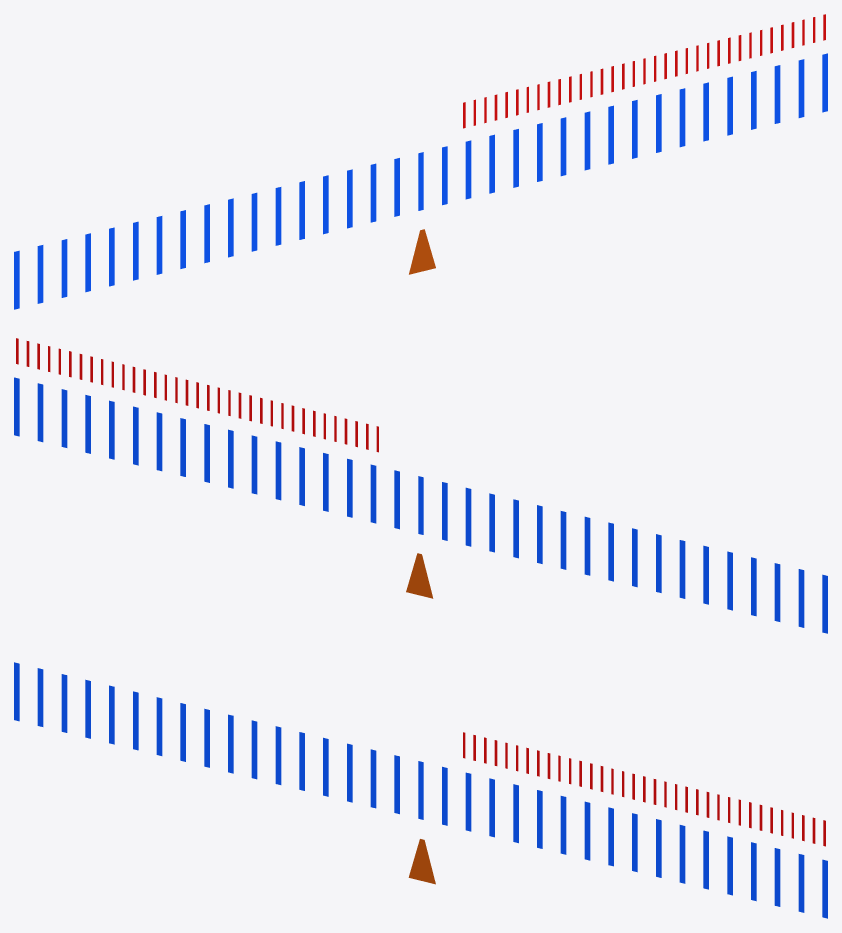
File: bottom_bar.glb
The picture shows the model from 3 angles, top to bottom: view 1: azimuth 30°, elevation 25°; view 2: azimuth 150°, elevation 25°; view 3: azimuth 330°, elevation 25°; orthographic projection.
Visible parts, largest first — view 1: Gauge_37, Arrowbaked_36; view 2: Gauge_37, Arrowbaked_36; view 3: Gauge_37, Arrowbaked_36.
Boxes of the visible parts, left/top/right/bottom form: Gauge_37: left=14, top=14, right=827, bottom=309; Arrowbaked_36: left=409, top=229, right=435, bottom=274; Gauge_37: left=14, top=338, right=827, bottom=633; Arrowbaked_36: left=406, top=553, right=433, bottom=598; Gauge_37: left=14, top=662, right=827, bottom=918; Arrowbaked_36: left=408, top=839, right=435, bottom=884.
Bounding box in the file's own units: 5.66 × 1.06 × 0.000832.
